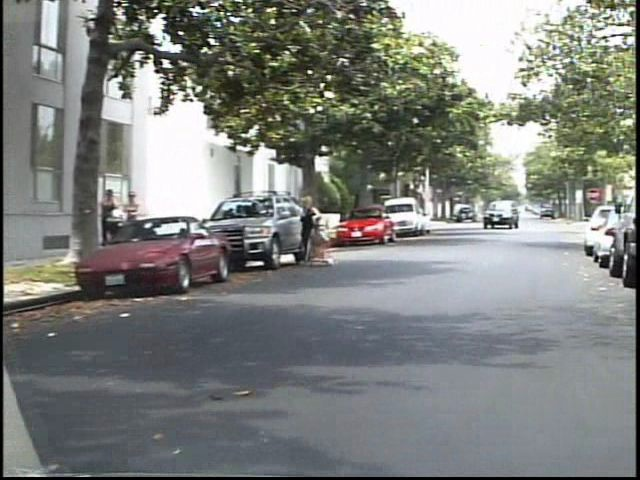person: (303, 192, 335, 274), (109, 185, 135, 254), (135, 187, 158, 250)
